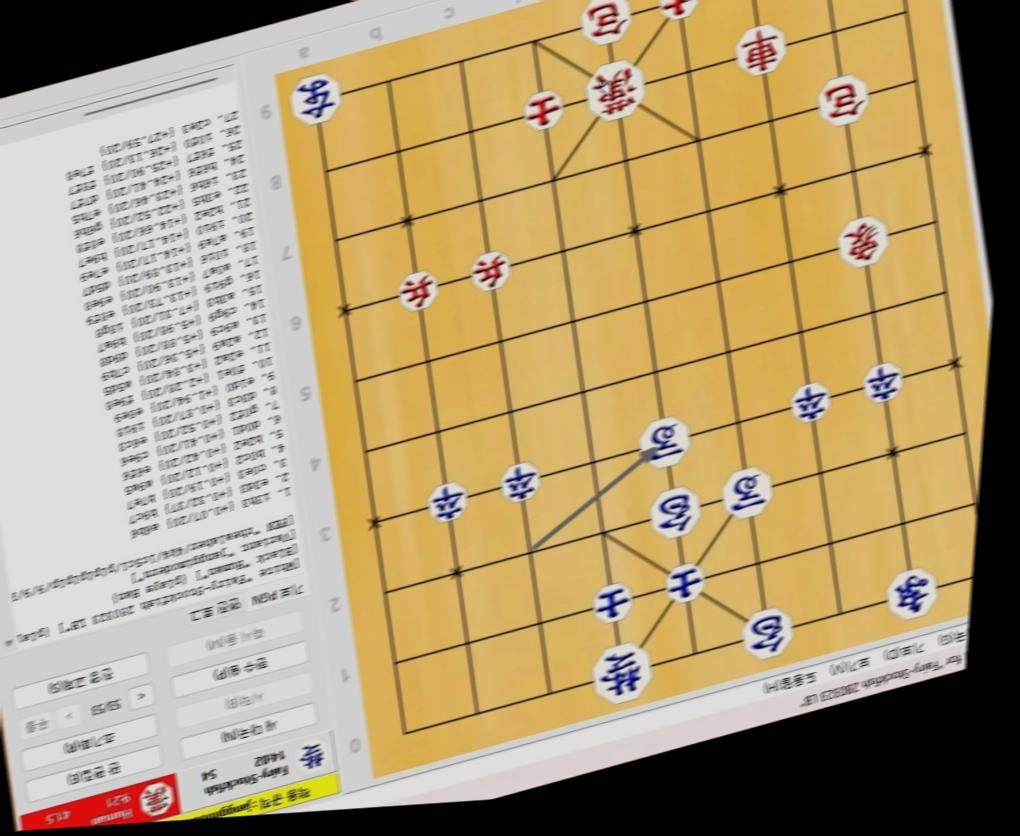cha_green: (283, 70, 349, 130)
cha_red: (728, 21, 792, 80)
jol_green: (423, 477, 473, 523), (786, 377, 836, 423), (494, 458, 543, 504), (860, 358, 909, 403)
jol_red: (390, 267, 442, 313), (467, 247, 514, 293)
ma_green: (716, 463, 779, 521), (634, 411, 695, 469)
po_green: (737, 603, 800, 660), (645, 483, 706, 541)
po_red: (810, 69, 875, 132), (574, 0, 635, 49)
sa_green: (586, 578, 637, 629), (658, 558, 709, 606)
sa_red: (518, 88, 567, 133), (653, 0, 701, 25)
sang_green: (881, 563, 943, 621)
sang_red: (830, 212, 894, 271)
wang_green: (586, 638, 659, 707)
wang_red: (577, 53, 654, 126)
